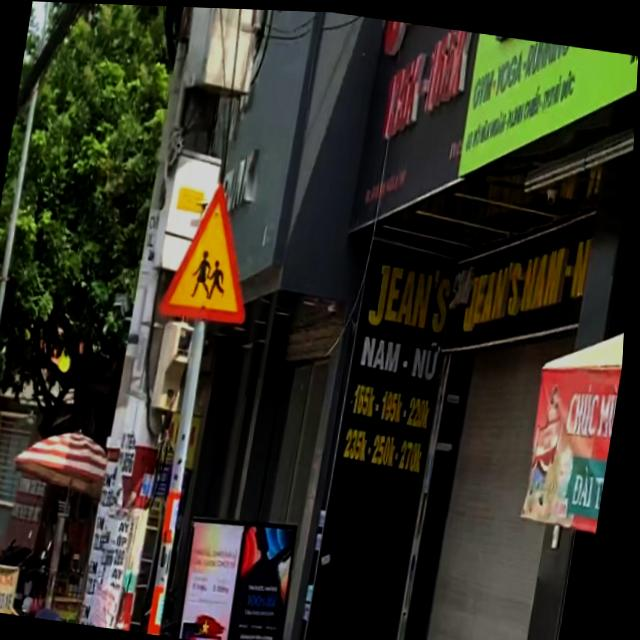Tre em: (157, 172, 270, 327)
